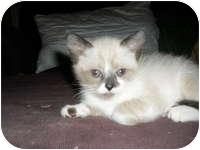siamese: (64, 26, 147, 108)
